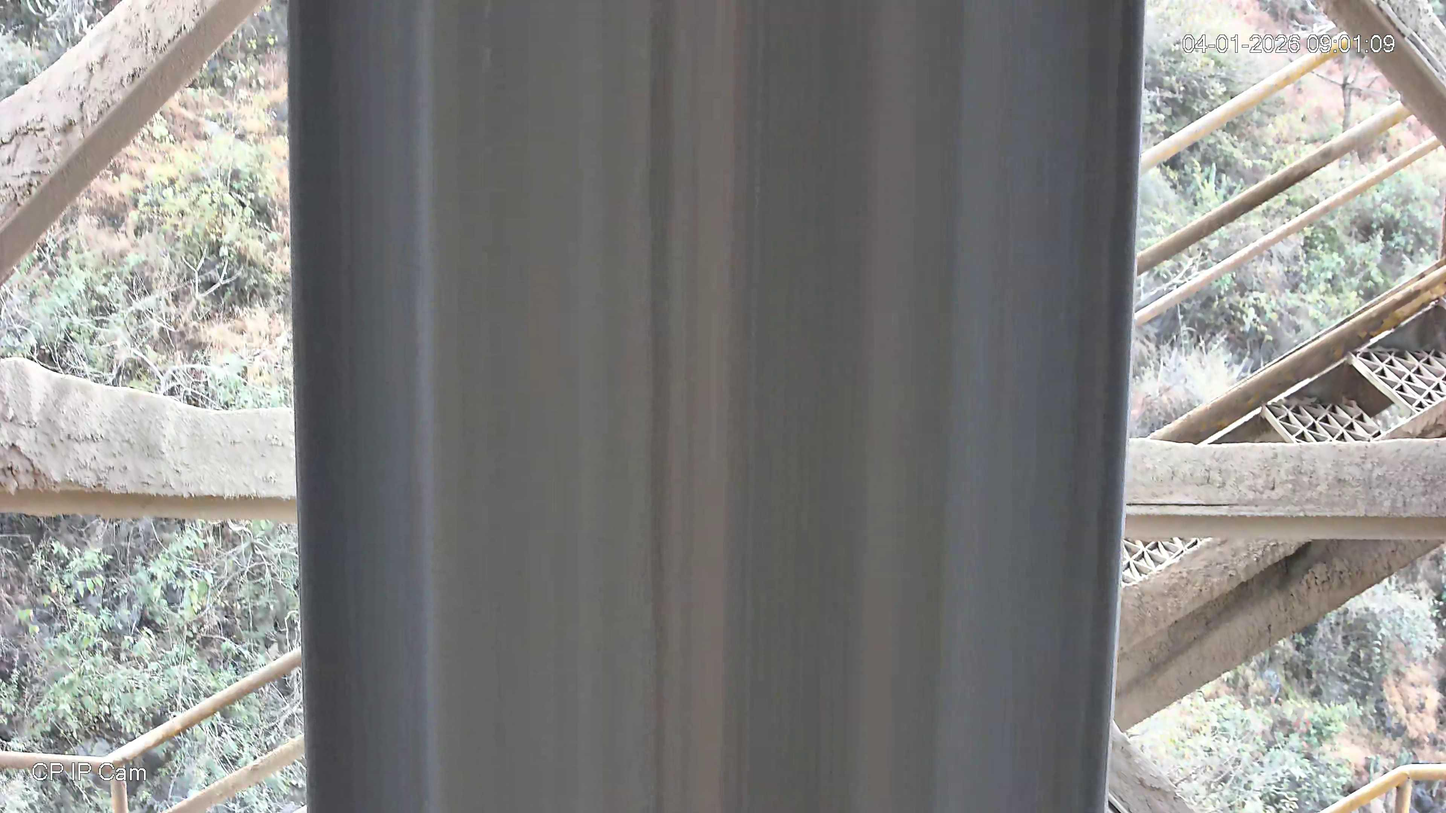belt_roi: (285, 0, 1147, 813)
